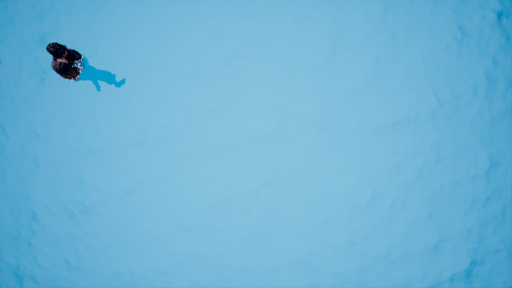person: (45, 42, 137, 99)
